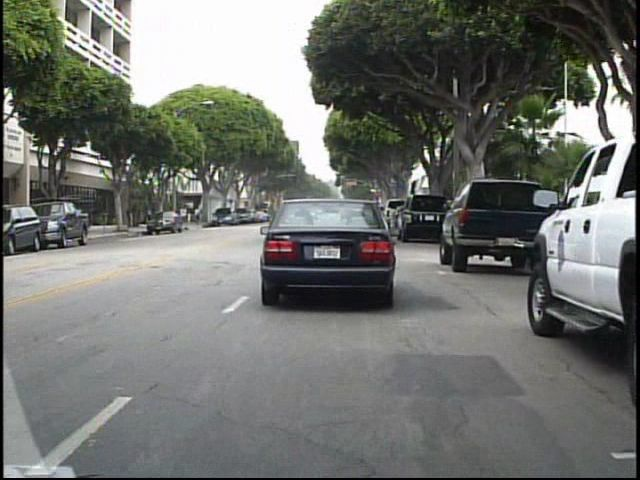person: (178, 202, 191, 226), (193, 202, 204, 226)
